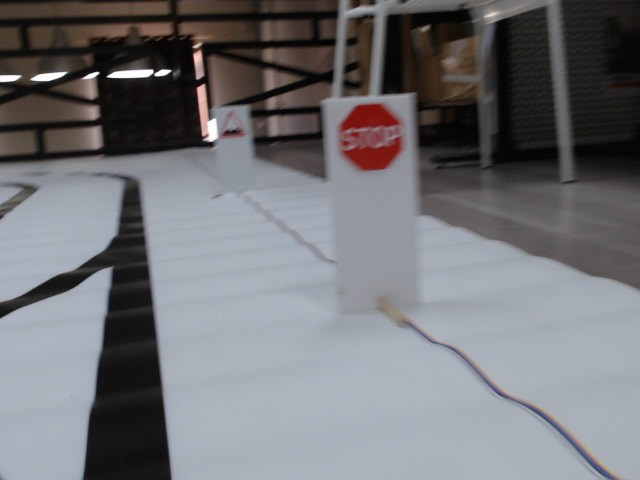Nerov: (222, 110, 248, 139)
Stop: (338, 104, 405, 169)
